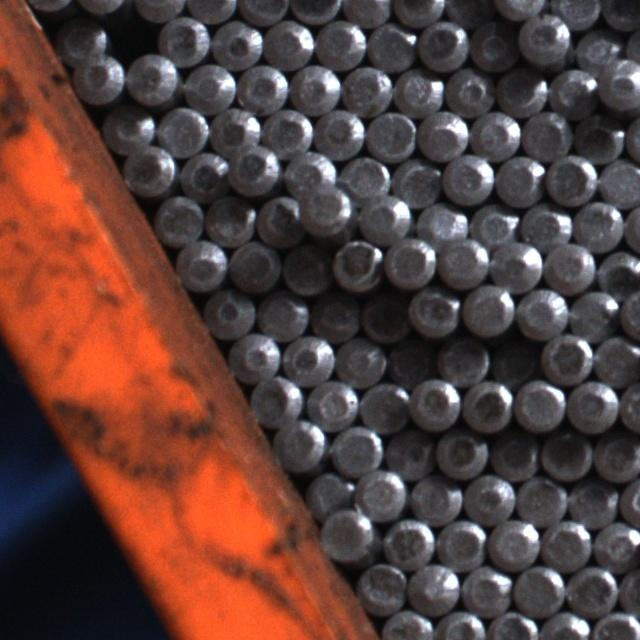tool: (317, 507, 373, 562), (489, 238, 544, 291), (273, 416, 326, 471), (563, 565, 617, 618), (125, 52, 178, 105), (247, 373, 300, 426), (280, 332, 334, 384), (566, 378, 618, 432), (330, 238, 382, 292), (518, 11, 569, 66), (462, 380, 514, 433), (462, 283, 514, 336), (540, 427, 592, 480), (152, 193, 204, 246), (356, 191, 409, 243), (123, 145, 175, 198), (229, 238, 280, 292), (184, 60, 236, 112), (384, 236, 436, 288), (512, 564, 564, 616), (516, 287, 568, 339), (382, 516, 434, 568), (540, 331, 592, 383), (544, 152, 596, 204), (408, 561, 460, 613), (538, 518, 590, 570), (307, 376, 359, 428), (514, 472, 566, 524), (72, 52, 124, 104), (100, 104, 152, 156), (514, 379, 565, 432), (175, 238, 228, 289), (358, 382, 411, 433), (356, 560, 407, 613), (284, 150, 337, 201), (210, 18, 262, 69), (437, 336, 489, 387), (460, 564, 511, 616), (408, 286, 459, 338), (365, 109, 416, 161), (438, 236, 489, 288), (488, 516, 539, 568), (436, 426, 487, 478), (410, 473, 462, 524), (289, 62, 340, 114), (203, 193, 254, 245), (357, 468, 408, 520), (301, 185, 352, 237), (207, 105, 259, 156), (281, 242, 331, 295), (463, 472, 514, 523), (158, 14, 209, 65), (157, 104, 208, 155), (203, 287, 254, 338), (228, 146, 279, 197), (435, 518, 485, 570), (568, 288, 618, 340), (256, 291, 308, 341), (410, 378, 460, 430), (263, 17, 315, 67), (313, 108, 365, 158), (310, 290, 360, 342), (590, 517, 640, 569), (521, 108, 571, 160), (391, 156, 441, 208), (468, 19, 518, 71), (566, 476, 618, 526), (336, 336, 386, 387), (416, 20, 467, 70), (489, 430, 540, 480), (442, 152, 492, 203), (237, 62, 287, 113), (496, 66, 547, 116), (330, 424, 381, 474), (385, 428, 435, 479), (548, 63, 598, 114), (385, 337, 436, 387), (177, 149, 227, 200), (488, 338, 539, 388), (494, 153, 543, 205), (261, 107, 313, 156), (303, 468, 355, 517), (418, 110, 468, 160), (470, 109, 520, 159), (360, 292, 410, 342), (316, 18, 366, 68), (228, 331, 278, 381), (339, 152, 389, 202), (56, 15, 106, 65), (254, 193, 303, 244), (367, 20, 416, 70), (342, 64, 391, 114), (545, 240, 594, 290), (572, 199, 621, 249), (576, 114, 626, 163), (415, 198, 466, 246), (593, 334, 640, 386), (593, 432, 640, 482), (519, 202, 570, 248), (393, 67, 441, 115), (445, 66, 493, 114), (572, 27, 622, 72), (598, 59, 640, 112), (470, 201, 517, 247), (598, 158, 640, 206), (597, 245, 640, 291), (380, 607, 431, 640), (434, 609, 486, 640), (487, 609, 539, 640), (590, 608, 640, 640), (539, 610, 590, 640), (392, 0, 443, 27), (552, 0, 602, 27), (289, 0, 341, 25), (443, 0, 493, 26), (342, 0, 392, 25), (236, 0, 288, 24), (616, 566, 640, 618), (601, 0, 640, 31), (184, 0, 236, 23), (618, 474, 640, 524), (133, 0, 185, 21)
